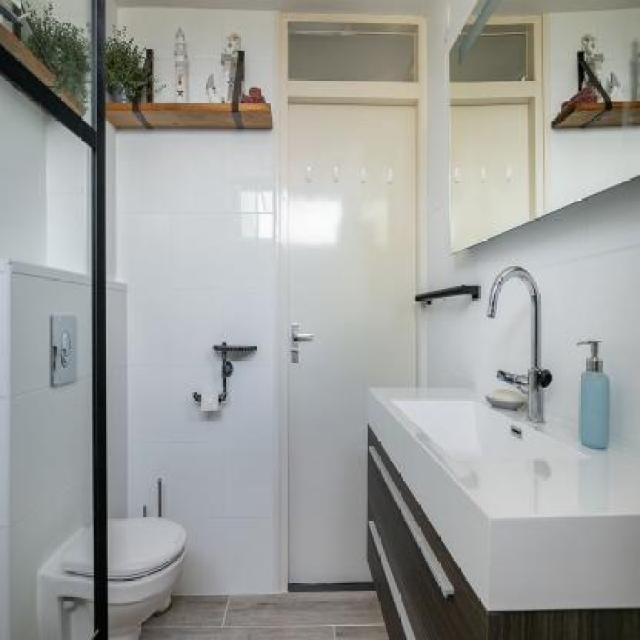floor: (140, 592, 390, 640)
